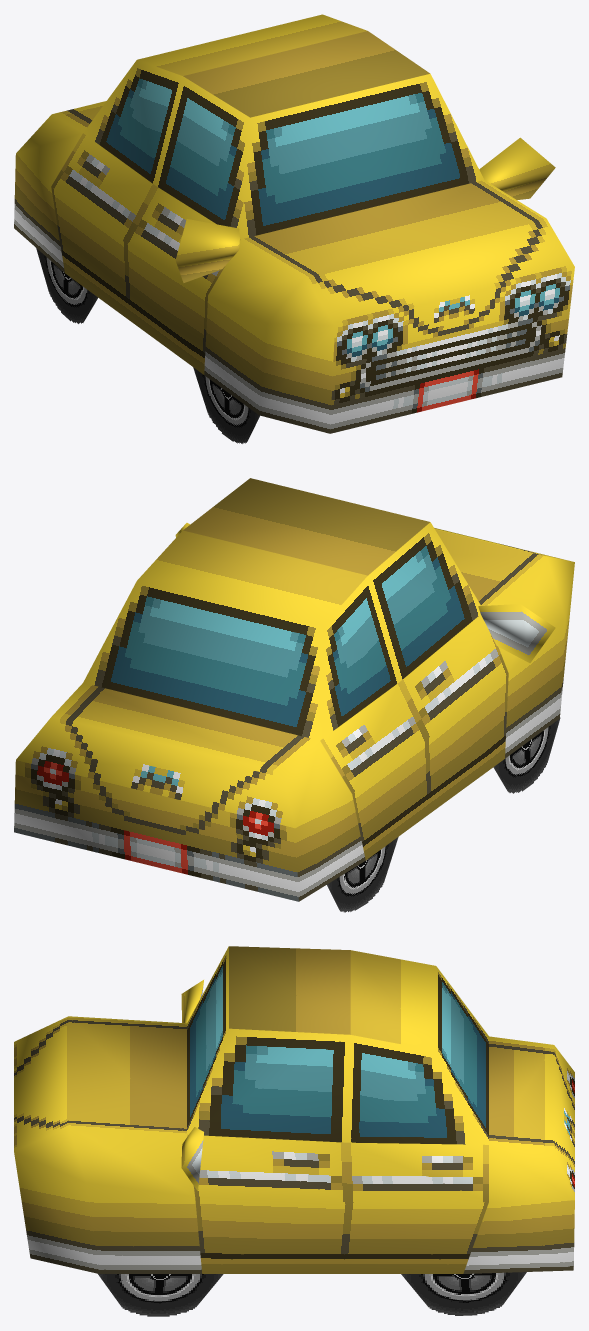
Rendered from YellowCar.glb.
The picture shows the model from 3 angles, top to bottom: view 1: azimuth 30°, elevation 25°; view 2: azimuth 150°, elevation 25°; view 3: azimuth 270°, elevation 25°; orthographic projection. The views are drawn at different scales.
Visible parts, largest first — view 1: car_a; view 2: car_a; view 3: car_a.
Boxes of the visible parts, x1,y1,x2,y2 form: car_a: [14, 14, 574, 443]; car_a: [14, 478, 574, 912]; car_a: [14, 946, 574, 1316].
Bounding box in the file's own units: 1.86 × 1.3 × 2.54.
2 materials, 2 textured.
